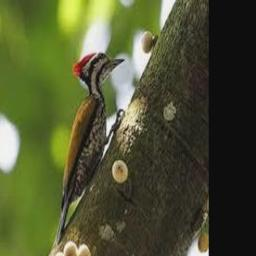Woodpecker: (54, 53, 125, 246)
